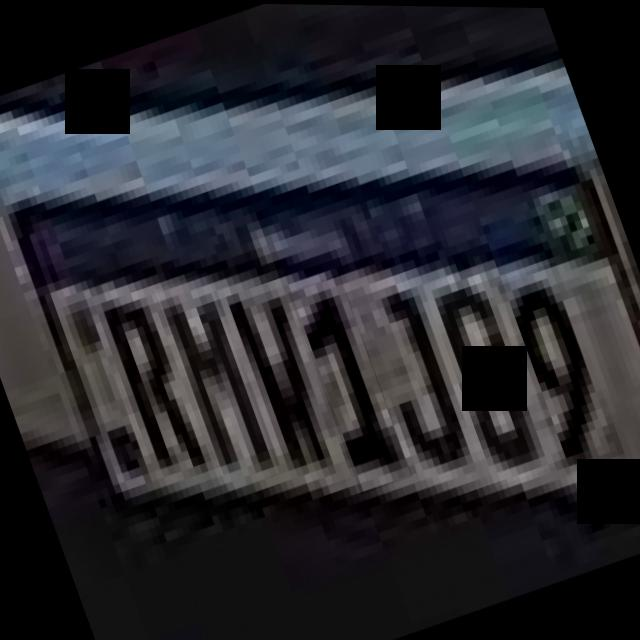0: (422, 264, 556, 486)
1: (288, 272, 413, 494)
9: (498, 259, 624, 473)
J: (352, 263, 484, 482)
M: (155, 270, 279, 491)
R: (85, 274, 218, 499)
W: (218, 269, 352, 500)
